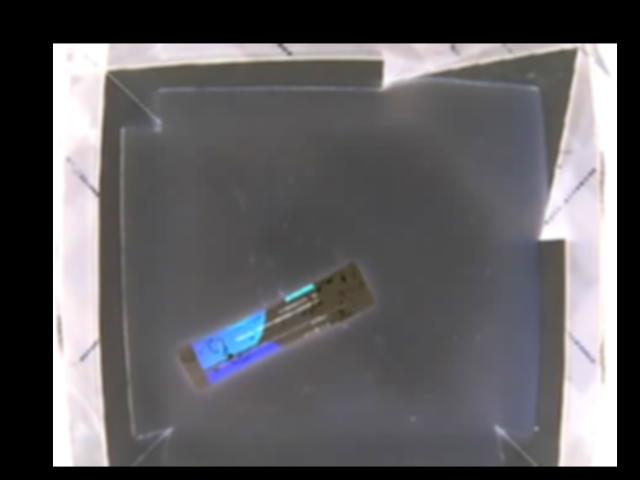Medicine: (175, 261, 376, 389)
